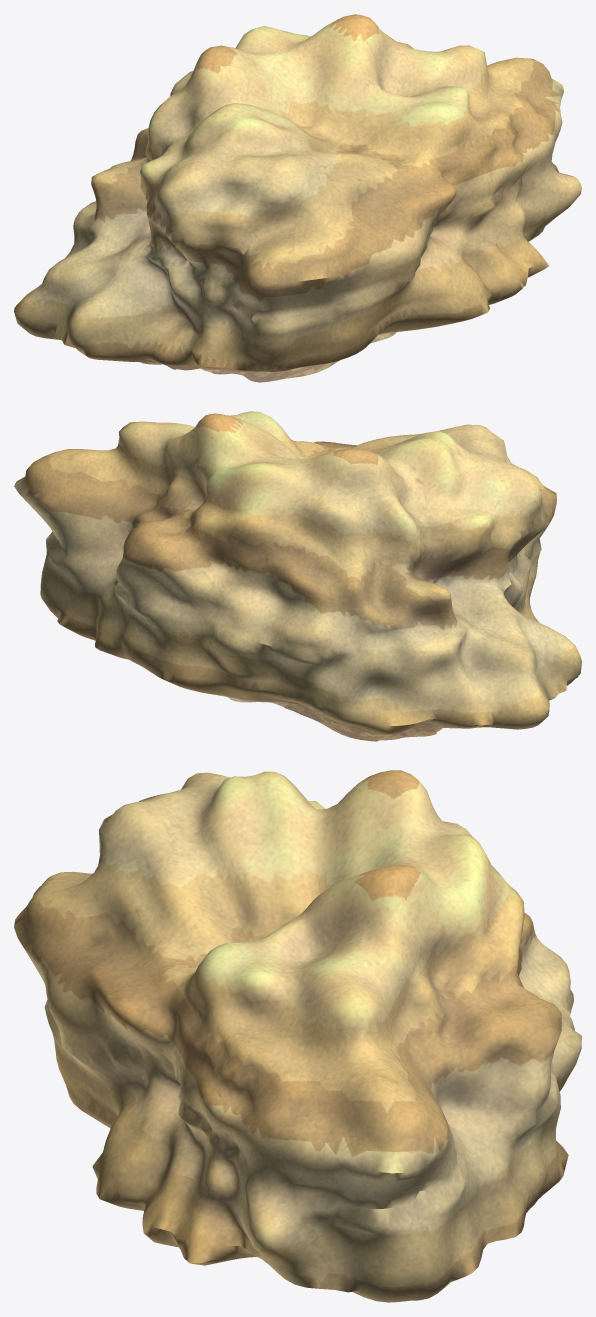
The model's file is WM_RockCoast_B.fbx.
The picture shows the model from 3 angles, top to bottom: view 1: azimuth 30°, elevation 25°; view 2: azimuth 150°, elevation 25°; view 3: azimuth 270°, elevation 25°; orthographic projection. The views are drawn at different scales.
Parts seen in each view (by area): view 1: WM_RockCoast_B_LOD0; view 2: WM_RockCoast_B_LOD0; view 3: WM_RockCoast_B_LOD0.
Part boxes in pixels (x1=…): WM_RockCoast_B_LOD0: x1=14, y1=14, x2=581, y2=382; WM_RockCoast_B_LOD0: x1=14, y1=411, x2=581, y2=741; WM_RockCoast_B_LOD0: x1=14, y1=770, x2=581, y2=1302.
Size of what is drawn, in the model's own units: 2.56 by 1.12 by 1.66.
